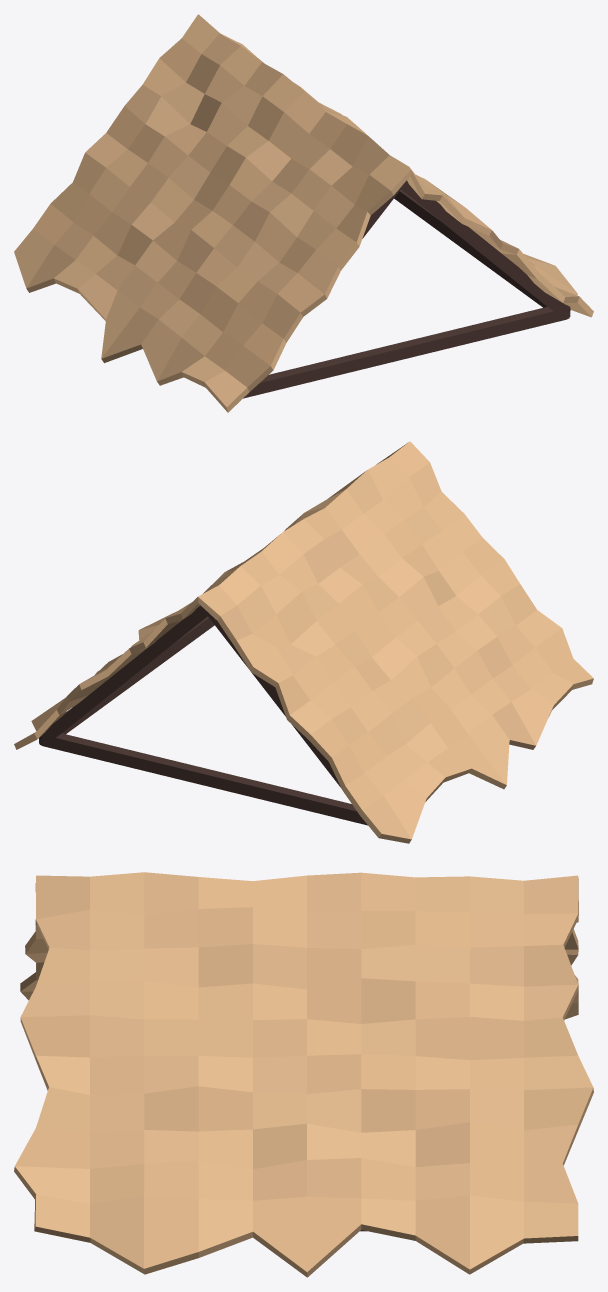
Rendered from TriRoof.fbx.
The picture shows the model from 3 angles, top to bottom: view 1: azimuth 30°, elevation 25°; view 2: azimuth 150°, elevation 25°; view 3: azimuth 270°, elevation 25°; orthographic projection. The views are drawn at different scales.
Visible parts, largest first — view 1: Cube.217; view 2: Cube.217; view 3: Cube.217.
Part boxes in pixels (<box>): Cube.217: <box>14,14,593,412</box>; Cube.217: <box>14,441,593,843</box>; Cube.217: <box>14,872,593,1277</box>.
Bounding box in the file's own units: 756 × 722 × 394.
